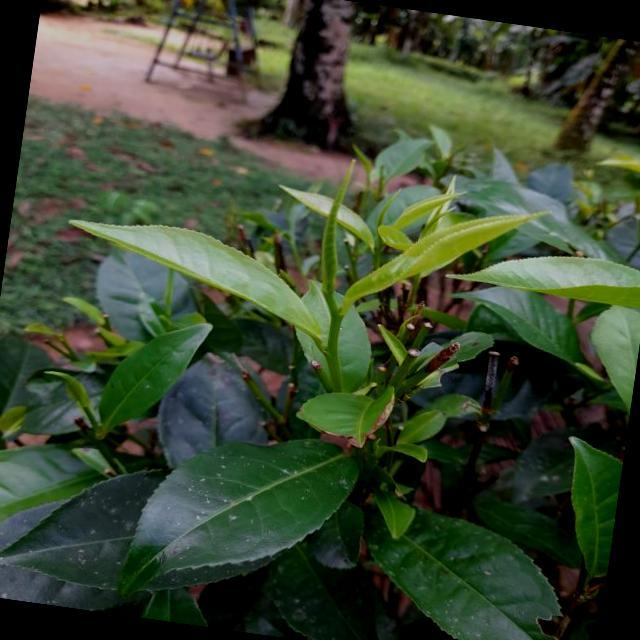Stem: (324, 352, 341, 379)
